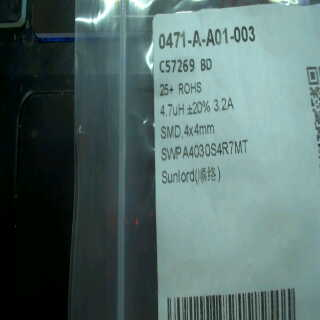4.7uH: (155, 101, 184, 120)
